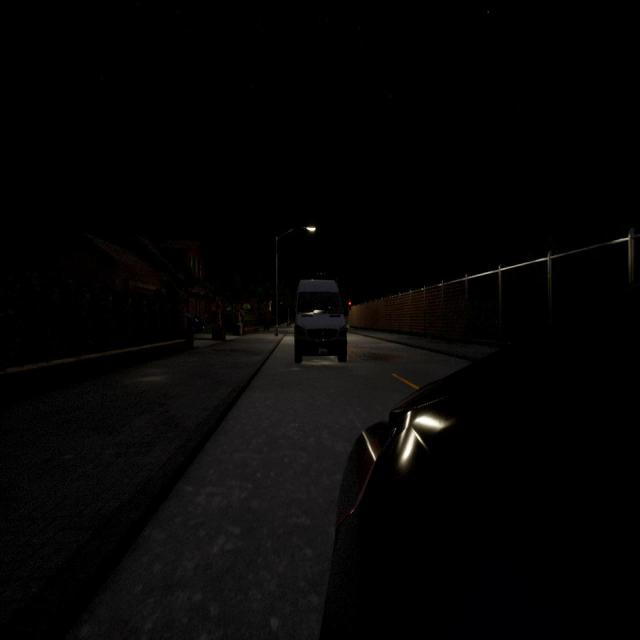Vehicle: (316, 293, 639, 640), (295, 279, 347, 363)
traffic_light: (348, 301, 351, 310)
